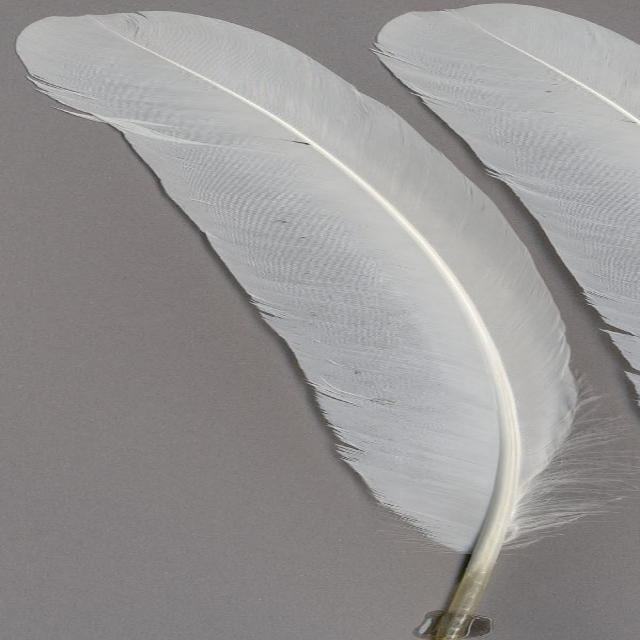feather: (18, 8, 588, 640)
